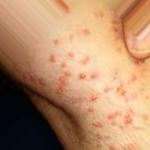Ants: (116, 84, 129, 98), (79, 26, 91, 38), (123, 112, 132, 126), (37, 77, 47, 88), (47, 54, 55, 62), (92, 120, 101, 127), (57, 86, 63, 95), (79, 72, 86, 79), (90, 93, 96, 101), (86, 106, 94, 112), (51, 39, 58, 45), (68, 52, 74, 57)
